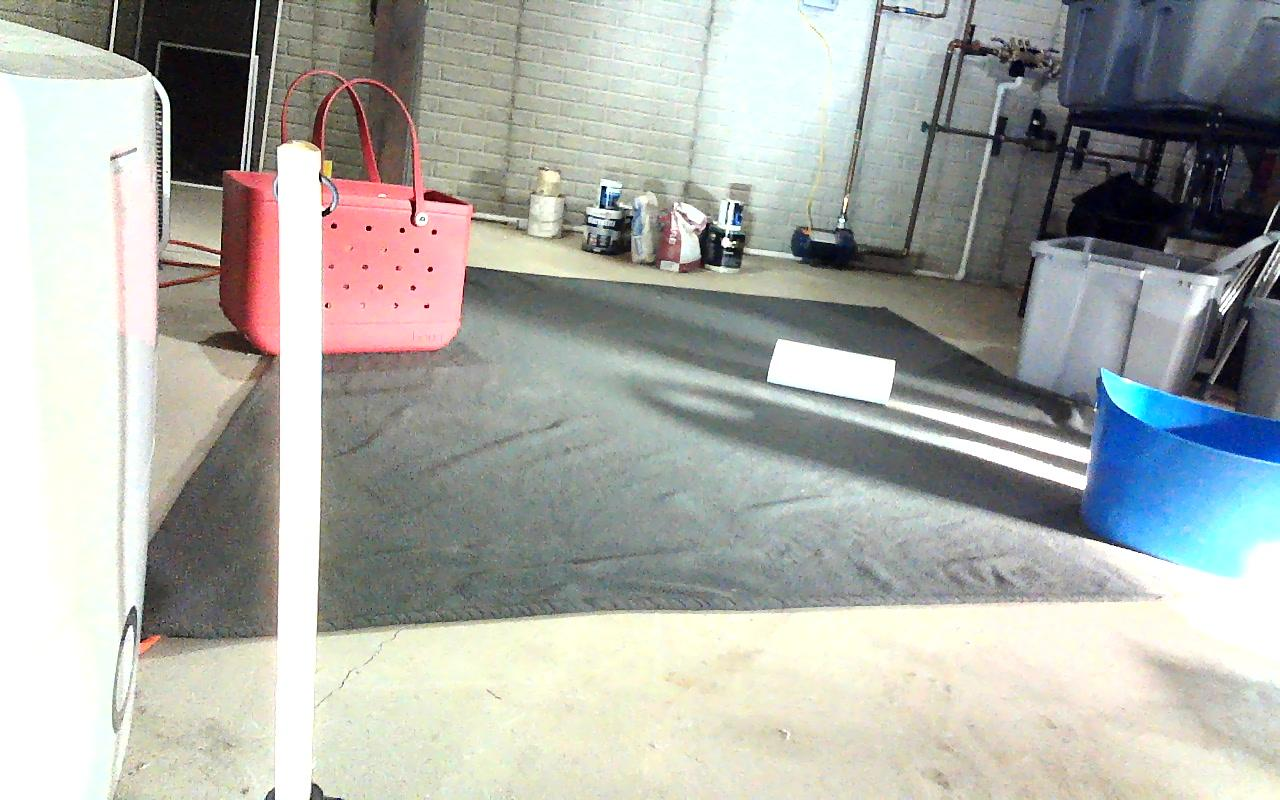coral: (769, 338, 897, 405)
